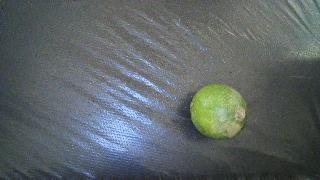DESECHO: (190, 84, 247, 139)
